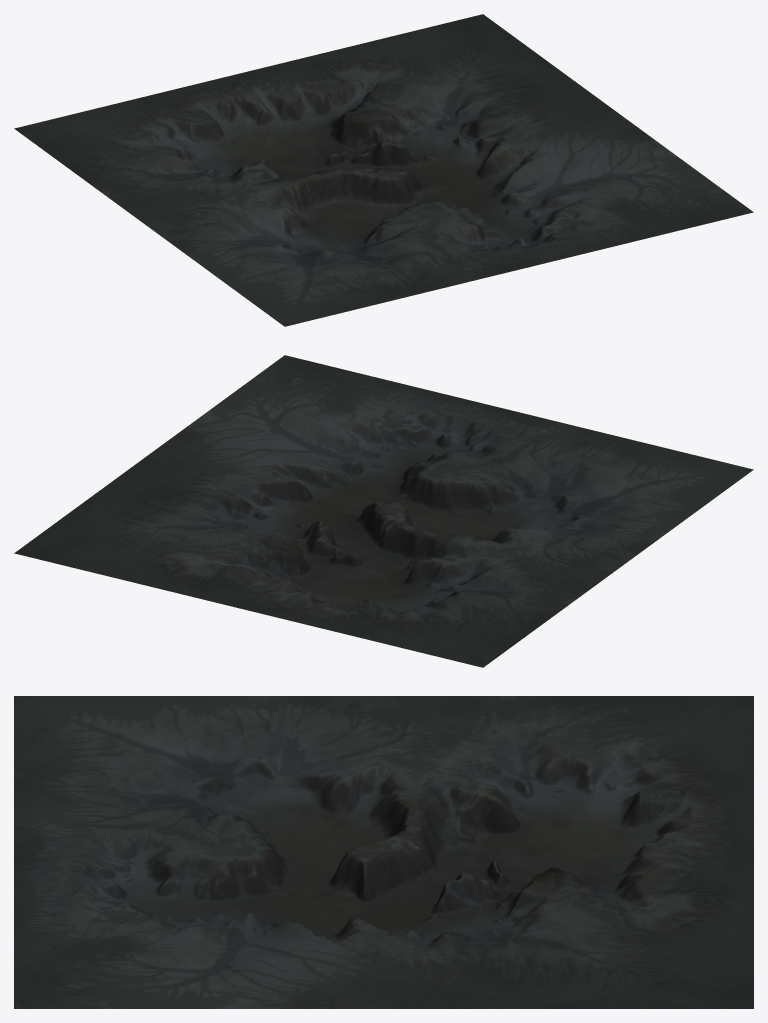
The model's file is terrain_small.obj.
3 renders of one model, top to bottom at view 1: azimuth 30°, elevation 25°; view 2: azimuth 150°, elevation 25°; view 3: azimuth 270°, elevation 25°, orthographic. The views are drawn at different scales.
Parts seen in each view (by area): view 1: Terrain; view 2: Terrain; view 3: Terrain.
Boxes of the visible parts, left/top/right/bottom form: Terrain: left=14, top=14, right=753, bottom=326; Terrain: left=14, top=355, right=753, bottom=667; Terrain: left=14, top=696, right=753, bottom=1008.
Bounding box in the file's own units: 562 × 23.4 × 562.
1 material, 1 textured.
